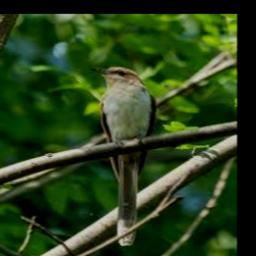Cuckoo: (88, 67, 157, 243)
